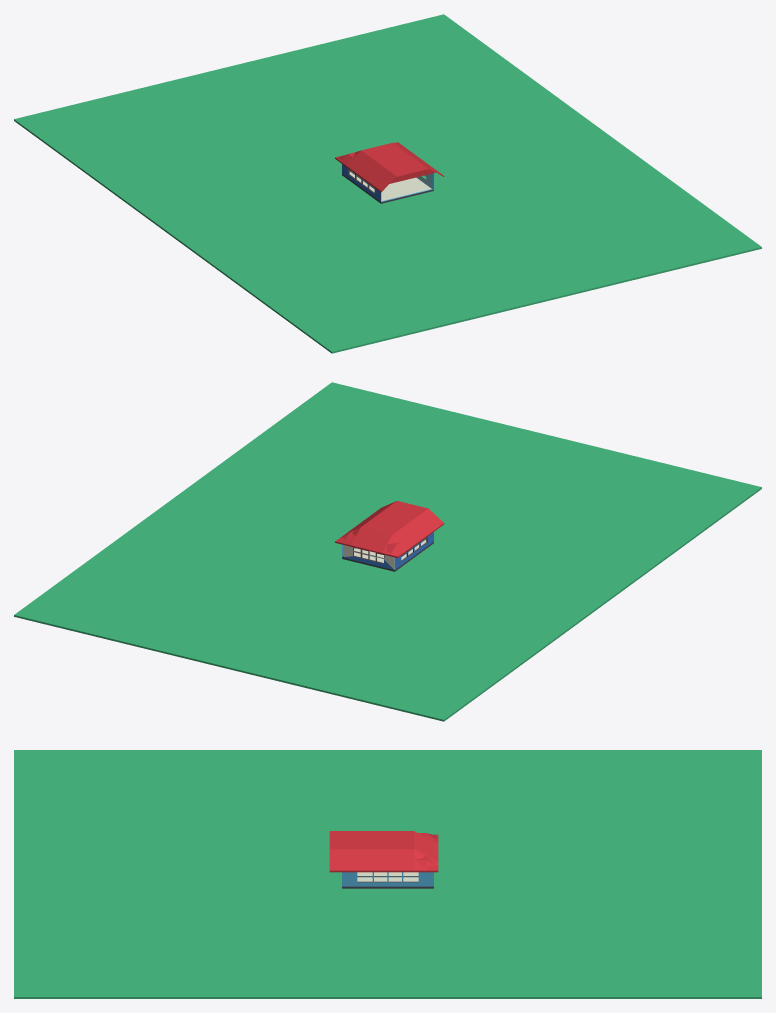
The model's file is Building.fbx.
The picture shows the model from 3 angles, top to bottom: view 1: azimuth 30°, elevation 25°; view 2: azimuth 150°, elevation 25°; view 3: azimuth 270°, elevation 25°; orthographic projection. The views are drawn at different scales.
Visible parts, largest first — view 1: WallAndGrass, Roof; view 2: WallAndGrass, Roof; view 3: WallAndGrass, Roof.
Part boxes in pixels (<box>): WallAndGrass: <box>14,14,761,353</box>; Roof: <box>335,142,444,192</box>; WallAndGrass: <box>14,382,761,721</box>; Roof: <box>335,501,444,557</box>; WallAndGrass: <box>14,750,761,998</box>; Roof: <box>329,831,438,872</box>.
Size of the model in its own units: 93900 by 6280 by 120269.
